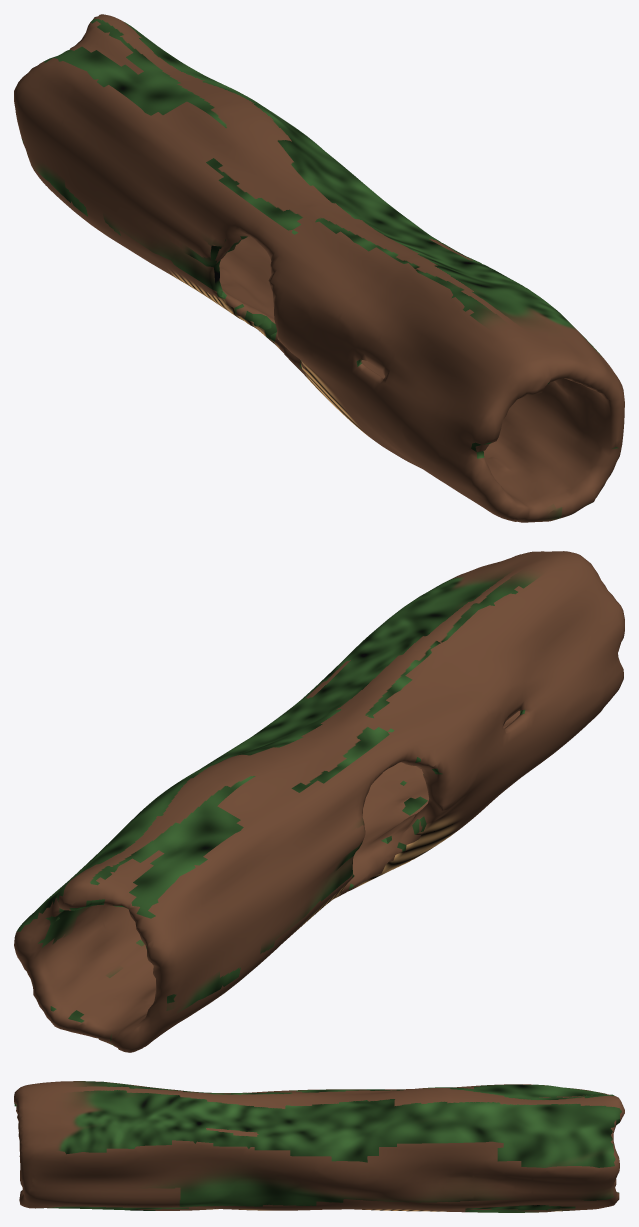
The model's file is lognew.fbx.
3 renders of one model, top to bottom at view 1: azimuth 30°, elevation 25°; view 2: azimuth 150°, elevation 25°; view 3: azimuth 270°, elevation 25°, orthographic. The views are drawn at different scales.
Visible parts, largest first — view 1: Cylinder; view 2: Cylinder; view 3: Cylinder.
Part boxes in pixels (x1,y1,x2,y2): Cylinder: (14, 14, 624, 522); Cylinder: (14, 551, 624, 1052); Cylinder: (14, 1081, 624, 1212).
Bounding box in the file's own units: 88.96 × 92.81 × 412.
